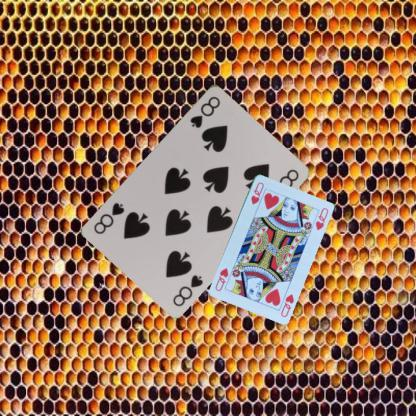8s: (187, 93, 222, 129), (170, 272, 204, 308)
Qh: (249, 179, 266, 206), (278, 291, 295, 318)
